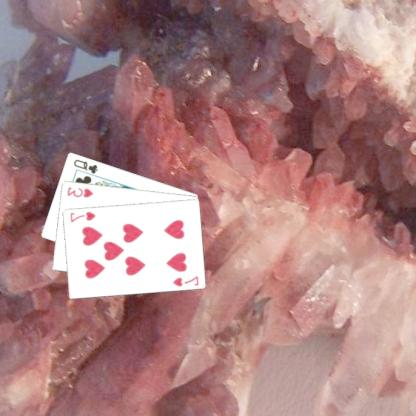3H: (66, 184, 96, 198)
7H: (69, 209, 98, 223), (172, 273, 201, 287)
QC: (73, 156, 100, 174)
